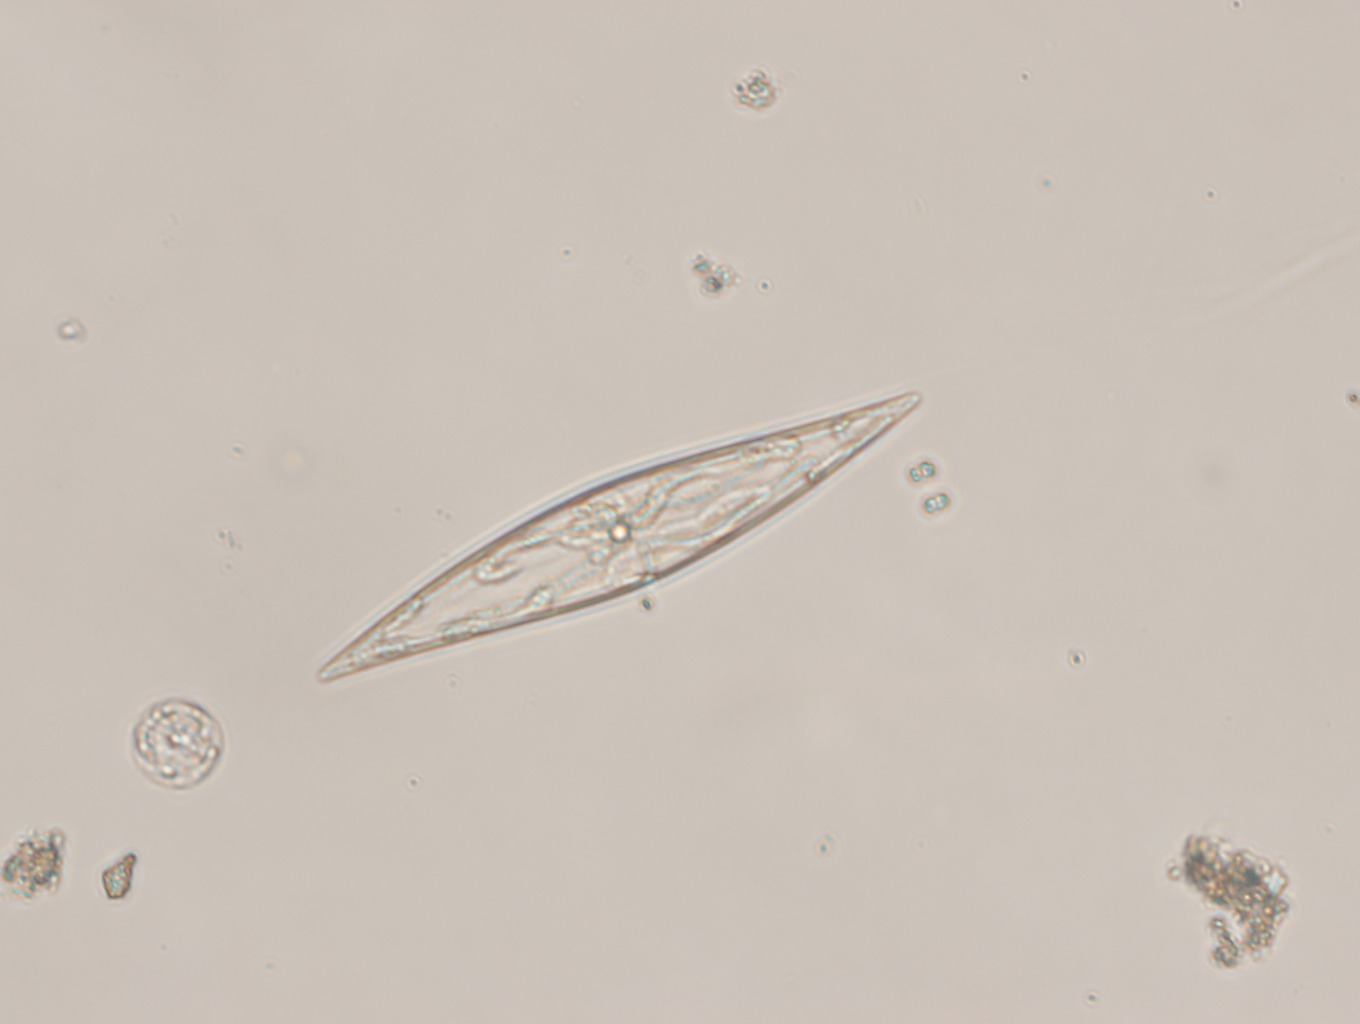navicula: (309, 389, 925, 686)
